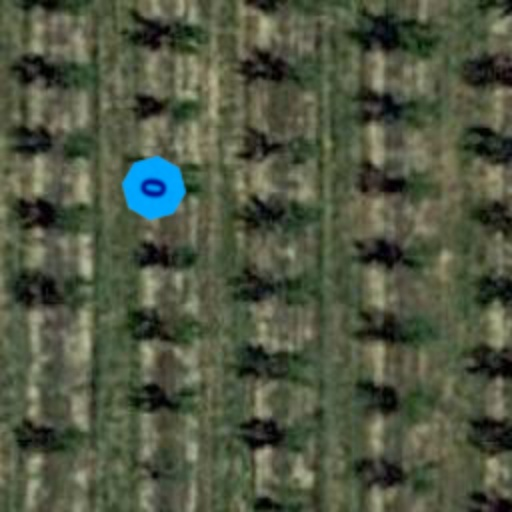octagon: (116, 150, 192, 226)
